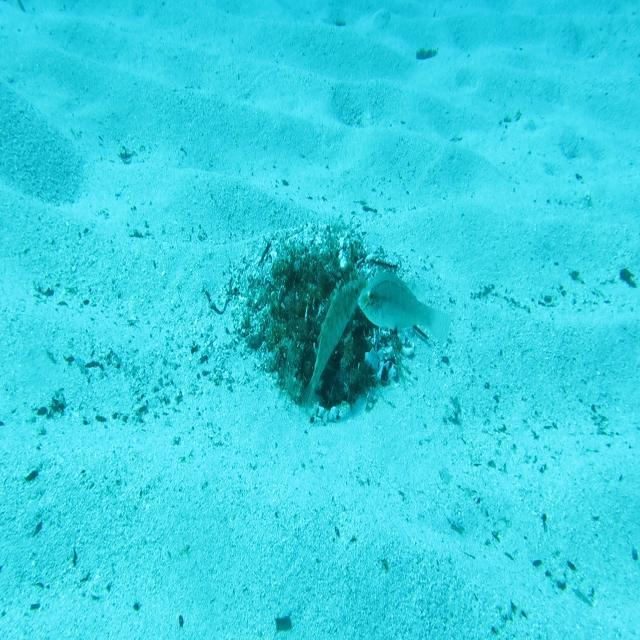LF: (300, 275, 368, 422)
core_nest: (297, 266, 338, 292)
female: (356, 269, 454, 351)
nest: (222, 207, 420, 438)
vegetation: (414, 44, 439, 64), (620, 266, 637, 288), (276, 616, 293, 633)
